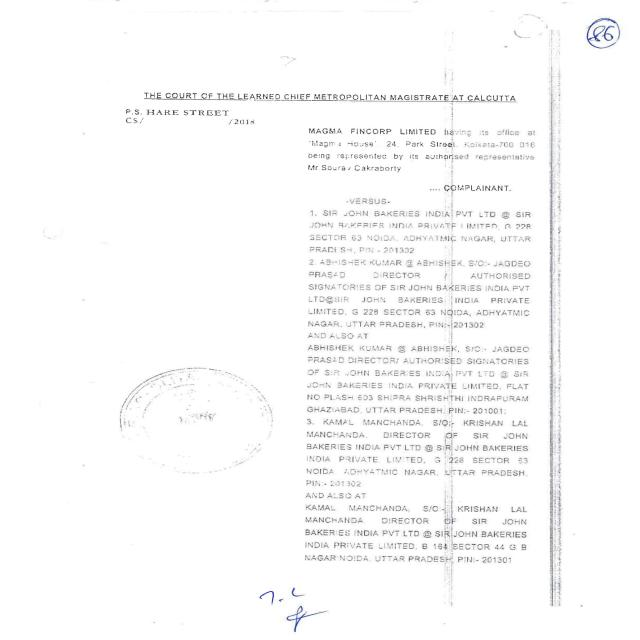page-number: (569, 0, 640, 74)
